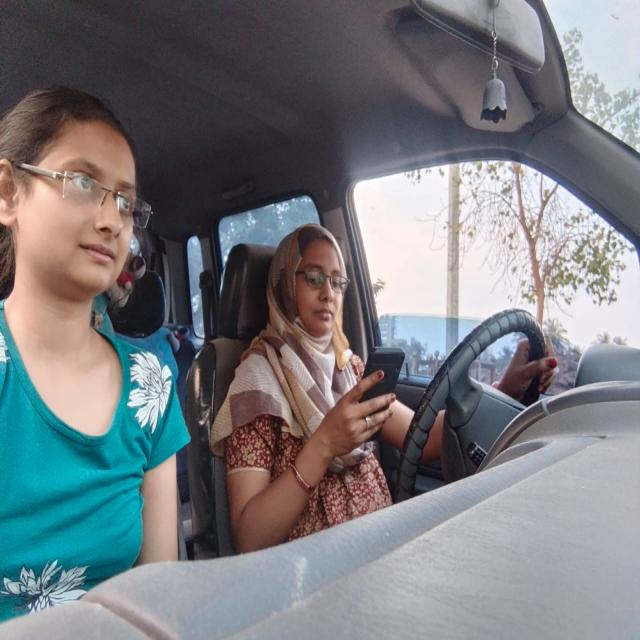mobile: (359, 338, 409, 428)
person: (3, 91, 142, 336), (264, 222, 352, 358)
